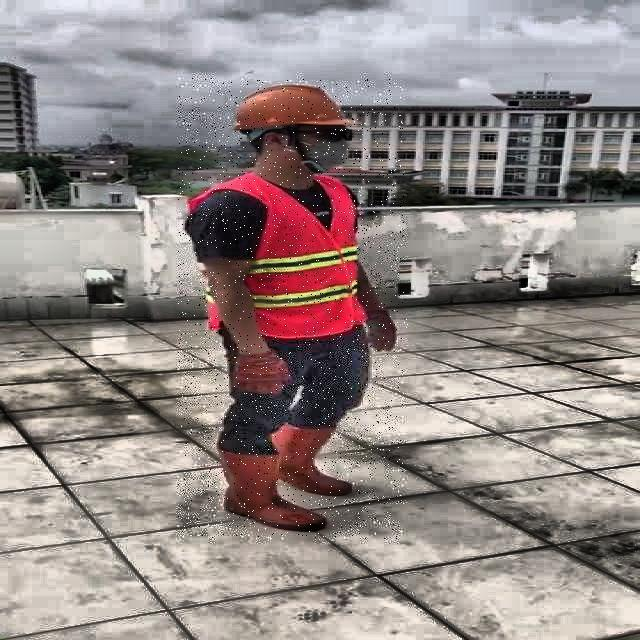safety_helmet: (230, 82, 360, 130)
safety_jacket: (193, 180, 364, 334)
